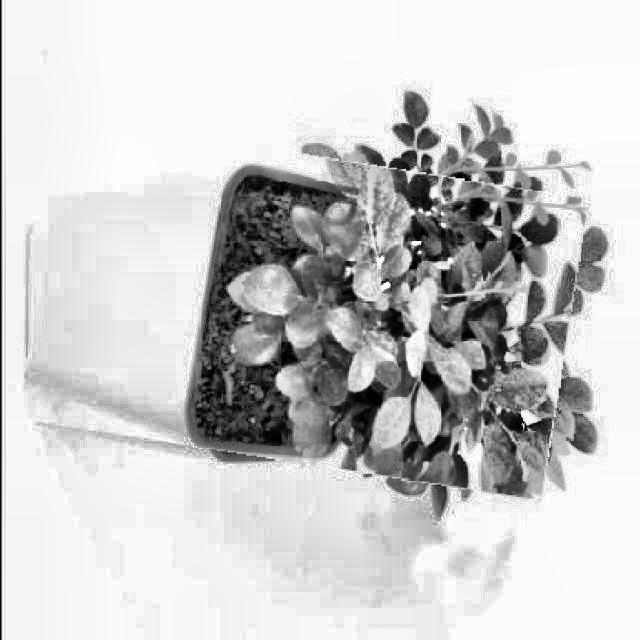plants: (28, 138, 576, 480)
